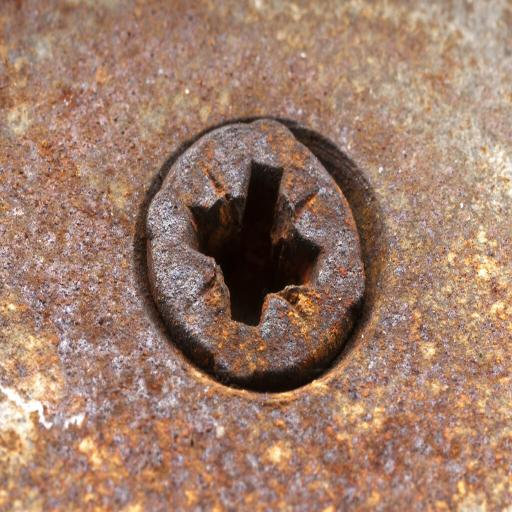Phillips: (133, 114, 366, 388)
